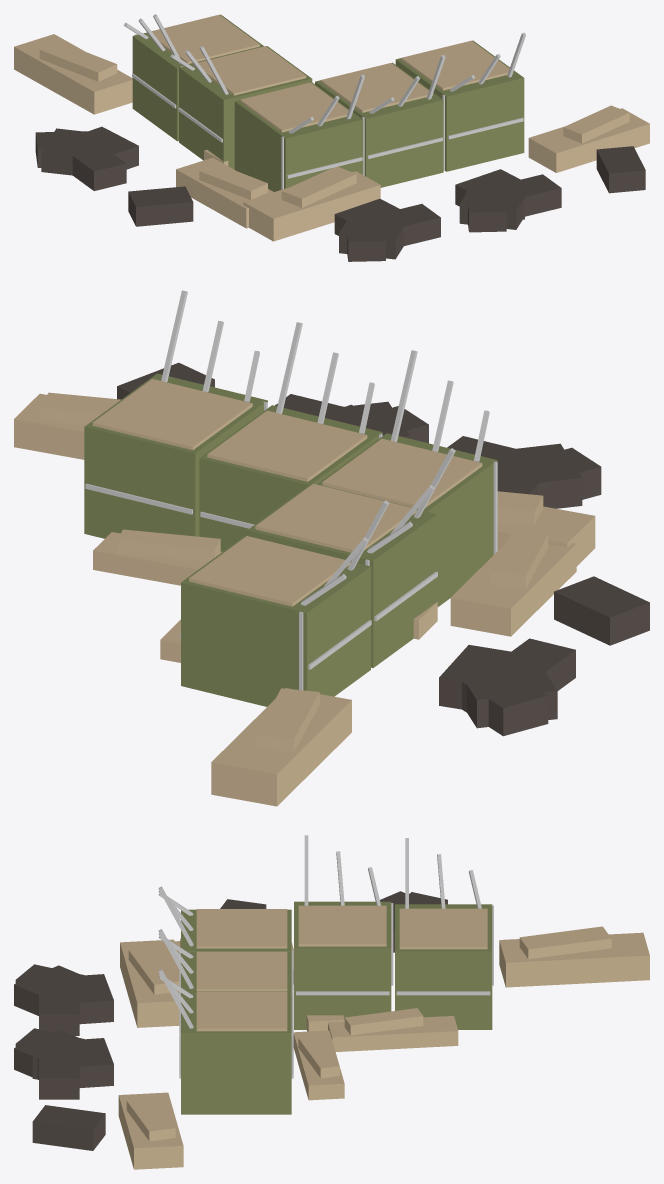
File: SM_HescoEsquina_v4_Red_e2_MuyDanado_LOD0.fbx
3 views of the same model, one above another, from view 1: azimuth 30°, elevation 25°; view 2: azimuth 150°, elevation 25°; view 3: azimuth 270°, elevation 25° (orthographic). The views are drawn at different scales.
Visible parts, largest first — view 1: SM_hesco_piezas_v18_LOD0; view 2: SM_hesco_piezas_v18_LOD0; view 3: SM_hesco_piezas_v18_LOD0.
Part boxes in pixels (x1,y1,x2,y2): SM_hesco_piezas_v18_LOD0: (14,14,649,261); SM_hesco_piezas_v18_LOD0: (14,290,649,806); SM_hesco_piezas_v18_LOD0: (14,835,649,1169).
Bounding box in the file's own units: 6.71 × 1.7 × 7.01.
